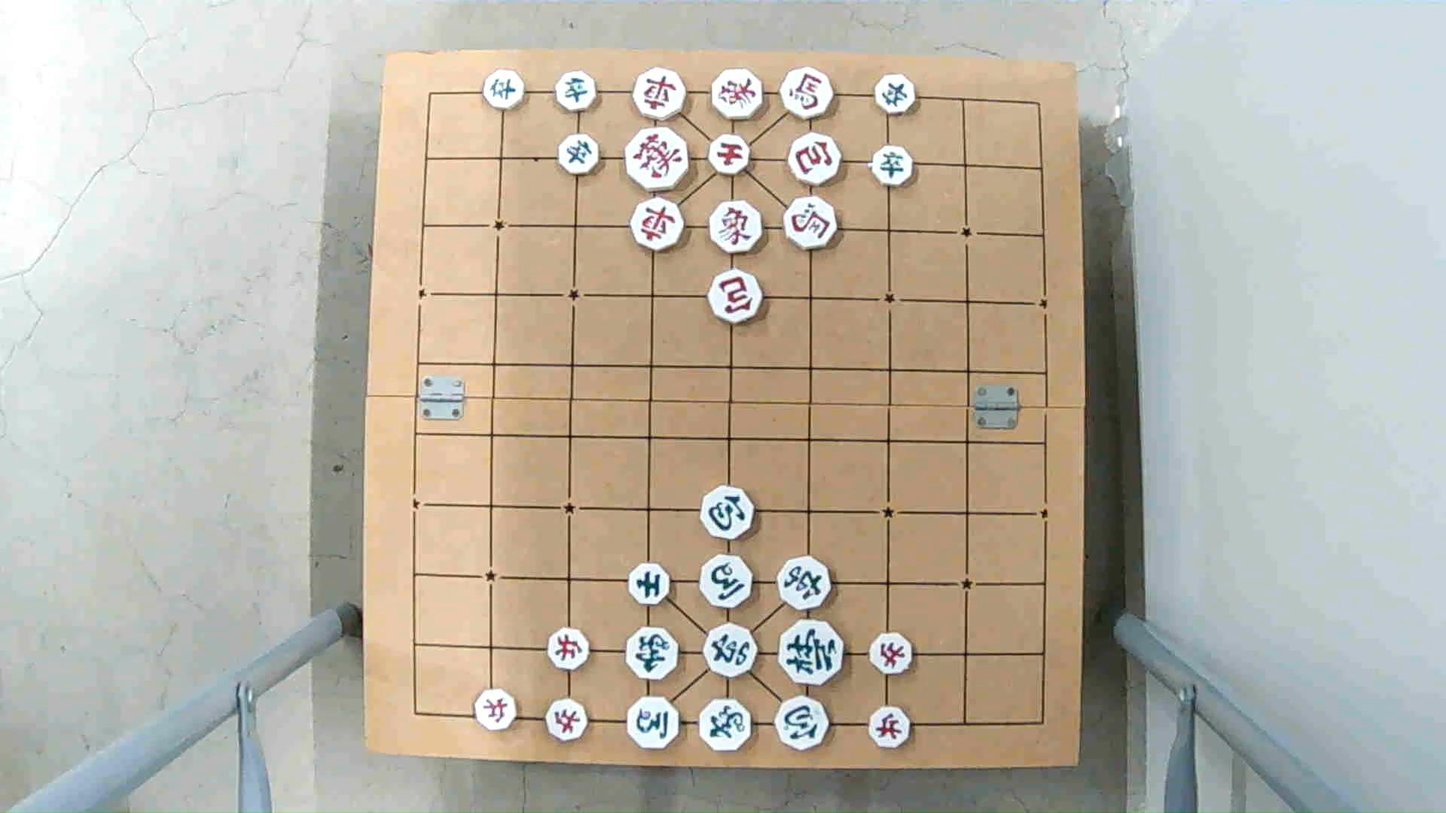cha_green: (702, 629, 758, 678), (776, 560, 831, 609)
cha_red: (635, 68, 688, 117), (630, 203, 685, 250)
jol_green: (871, 146, 916, 184), (875, 76, 919, 114), (557, 138, 599, 176), (481, 71, 523, 108), (554, 74, 596, 111)
jol_red: (868, 635, 915, 674), (545, 699, 588, 740), (868, 708, 913, 747), (548, 629, 593, 668), (475, 692, 520, 730)
ma_green: (627, 698, 683, 749), (700, 557, 756, 608)
ma_red: (780, 65, 835, 120), (786, 199, 843, 249)
po_green: (699, 490, 755, 540), (776, 699, 832, 748)
po_red: (706, 273, 763, 321), (790, 135, 844, 183)
sa_green: (627, 562, 673, 602)
sa_red: (707, 136, 752, 172)
sang_green: (625, 629, 682, 681), (700, 699, 752, 750)
sang_red: (710, 198, 763, 253), (709, 71, 764, 119)
wang_green: (780, 620, 844, 687)
wang_red: (623, 128, 691, 188)
